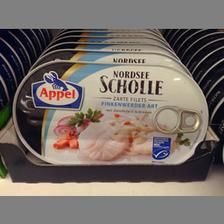Fisch: (11, 59, 207, 165)
